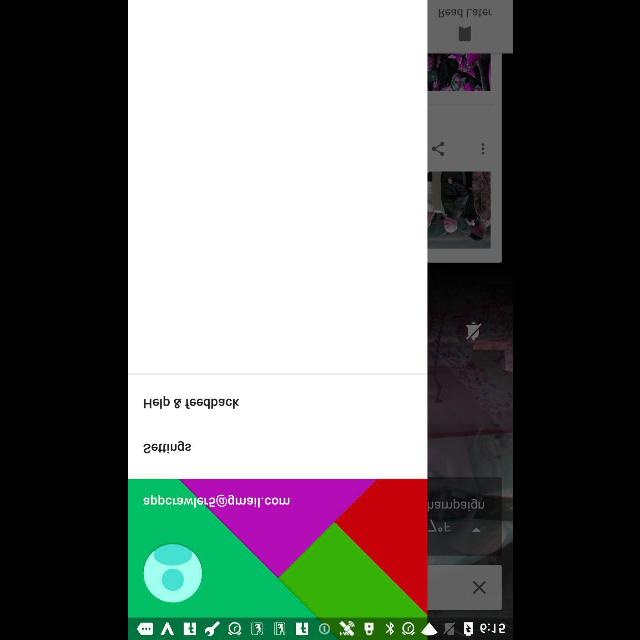icon: (142, 544, 202, 602)
panel: (128, 1, 426, 617)
text: (143, 494, 289, 508), (144, 396, 238, 409), (143, 441, 191, 454)
uppertaskbar: (128, 617, 512, 639)
